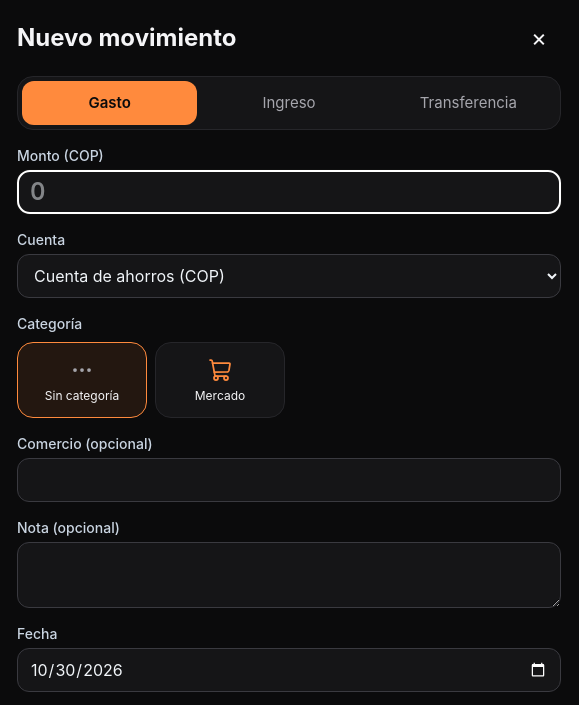
Test: quick add screen › shows the backend message when saving fails
The image size is (579, 705).
In the field labelled "Monto (COP)": x=289, y=192 [17, 170, 561, 214], type "1000"
(page scrolled)
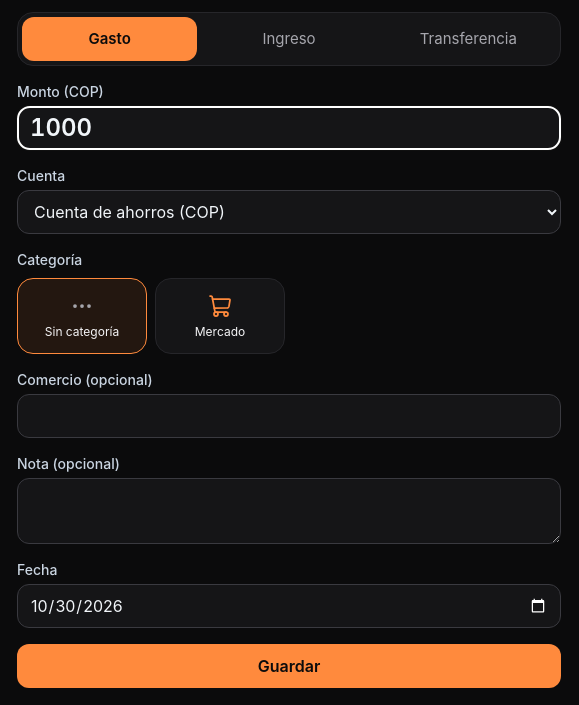
Click the button "Guardar": x=289, y=666 [17, 644, 561, 688]
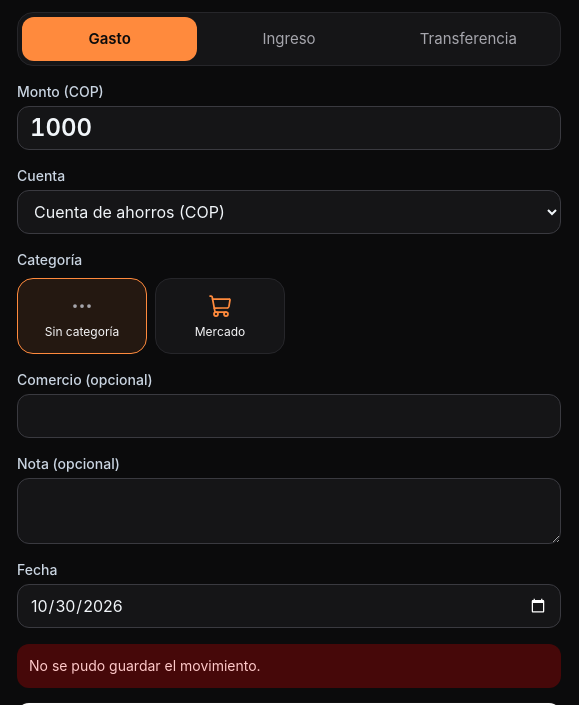
Expected: the text "No se pudo guardar el movimiento." is shown, [17, 644, 561, 688]
